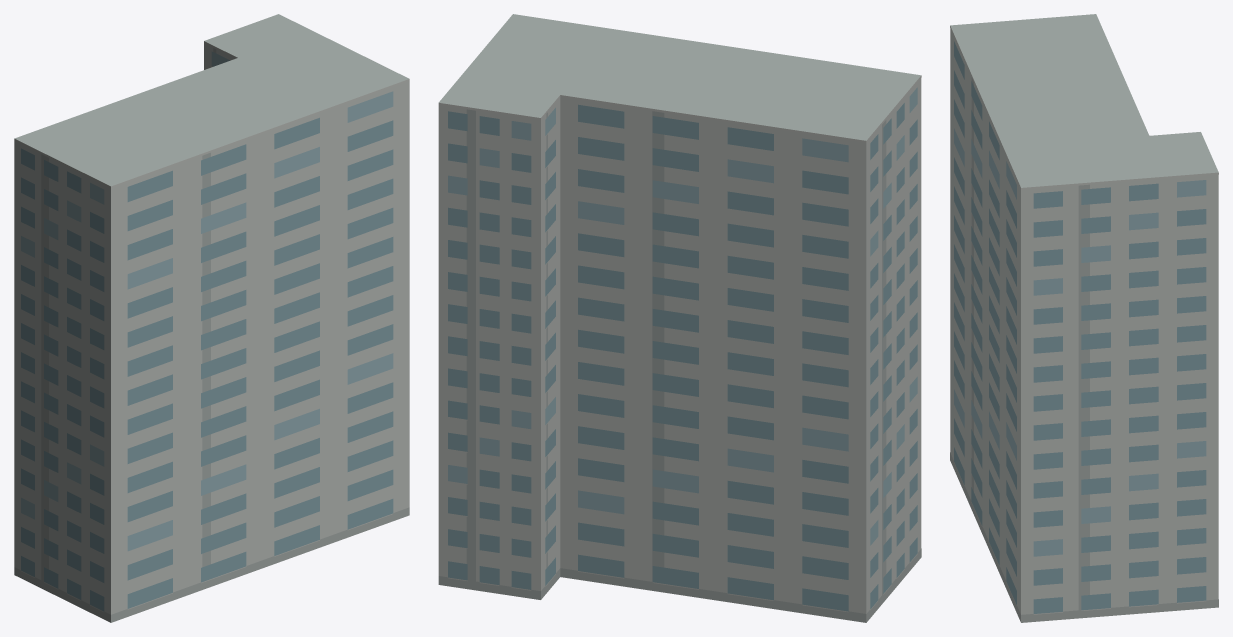
Rendered from residential-3f681d76-71f5-4cbd-a30c-110407191582.glb.
3 views of the same model, side by side, from view 1: azimuth 30°, elevation 25°; view 2: azimuth 150°, elevation 25°; view 3: azimuth 270°, elevation 25° (orthographic). The views are drawn at different scales.
Visible parts, largest first — view 1: residential-3f681d76-71f5-4cbd-a30c-110407191582.tmp; view 2: residential-3f681d76-71f5-4cbd-a30c-110407191582.tmp; view 3: residential-3f681d76-71f5-4cbd-a30c-110407191582.tmp.
Boxes of the visible parts, x1=… form: residential-3f681d76-71f5-4cbd-a30c-110407191582.tmp: x1=14, y1=14, x2=409, y2=622; residential-3f681d76-71f5-4cbd-a30c-110407191582.tmp: x1=438, y1=14, x2=921, y2=622; residential-3f681d76-71f5-4cbd-a30c-110407191582.tmp: x1=950, y1=14, x2=1218, y2=622.
Size of the model in its own units: 42.89 by 50 by 28.
